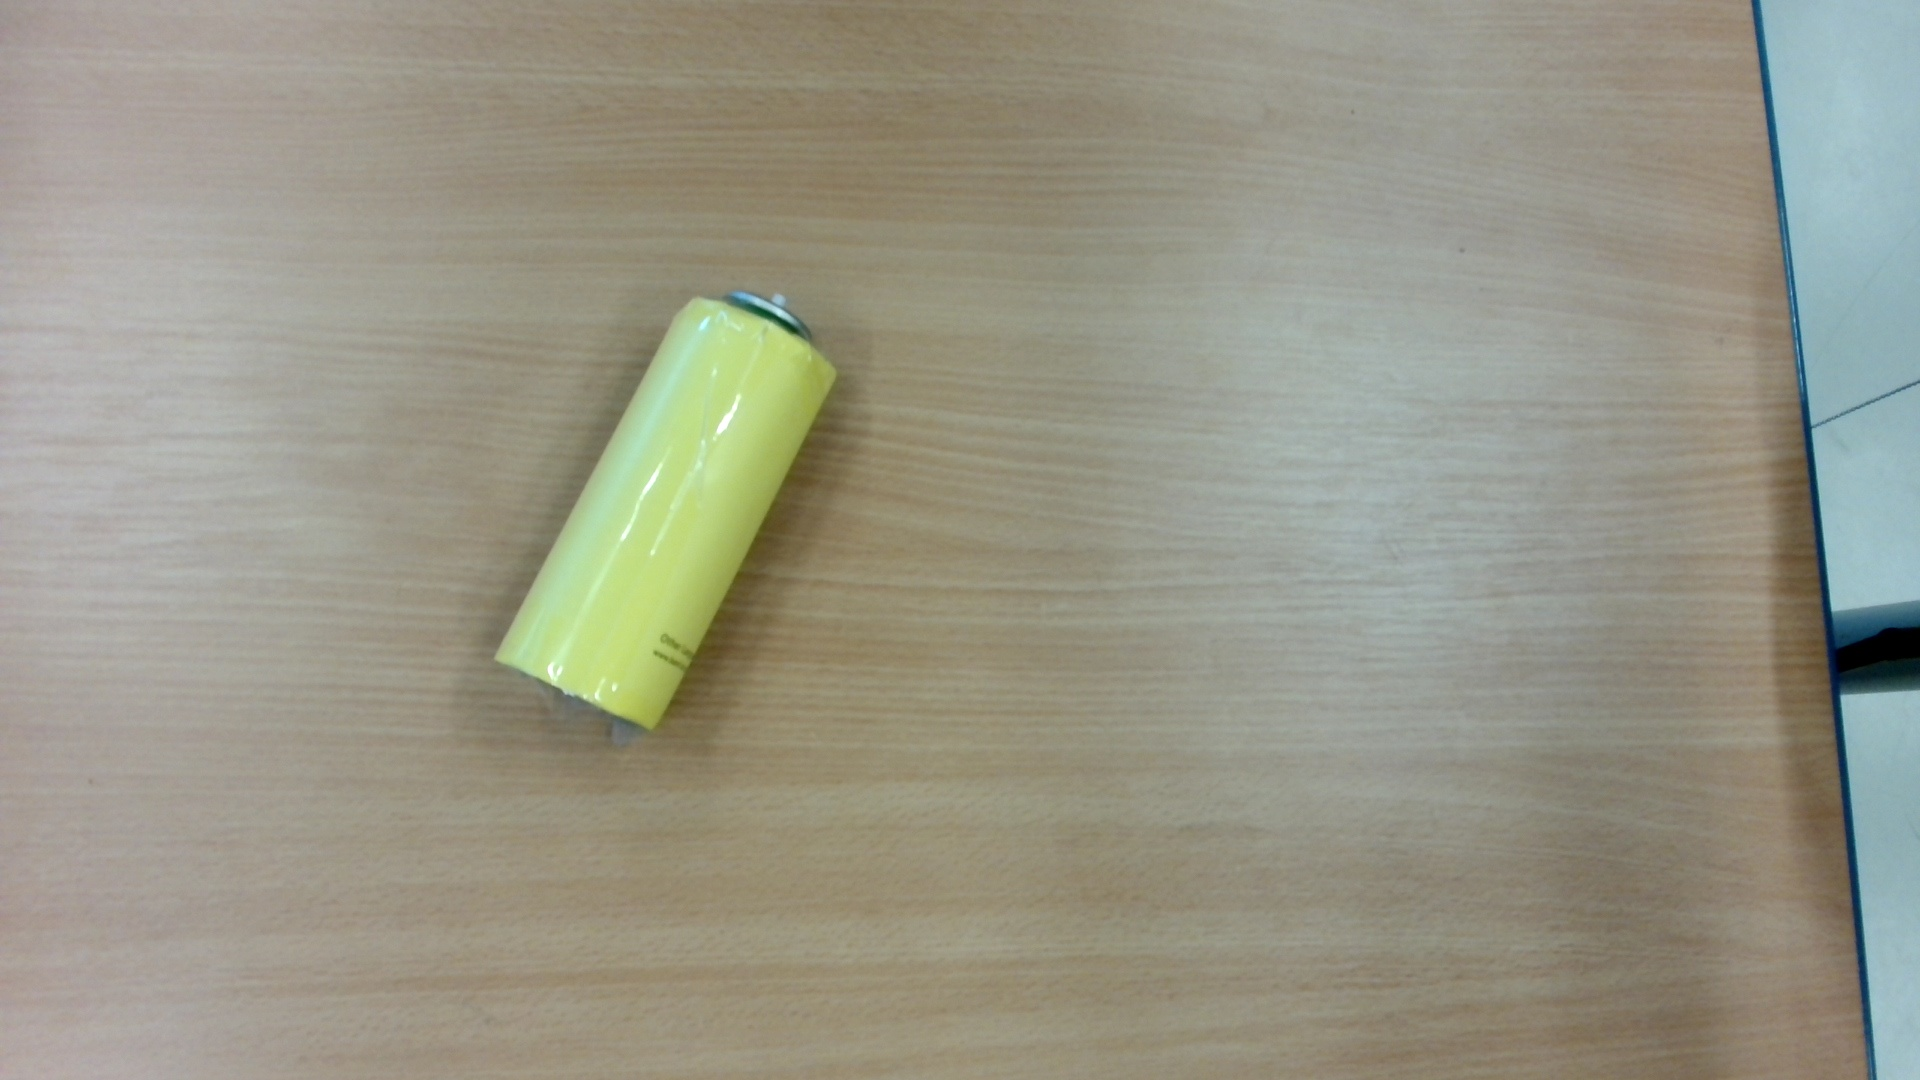Cylinder: (476, 260, 849, 750)
